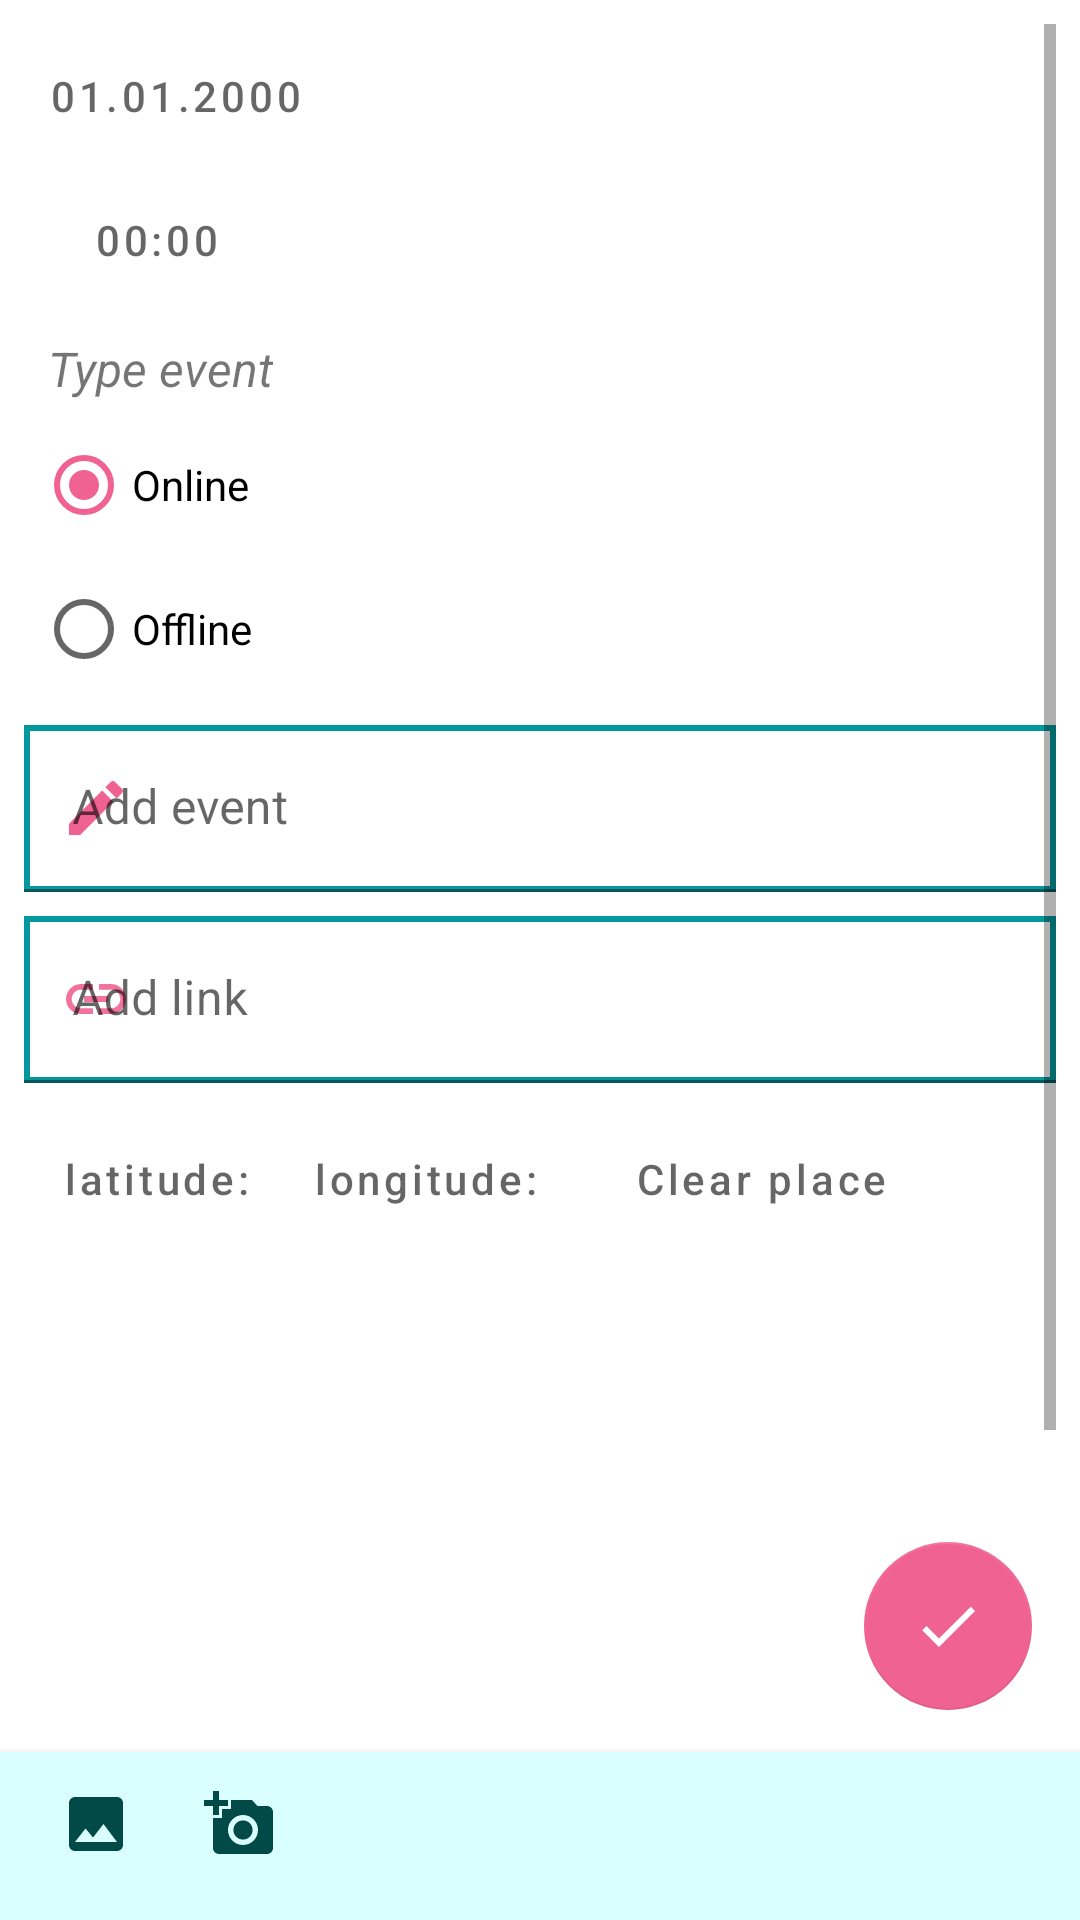

Icon click points for this 1080×1920 phone screenshot, format [x,y]:
check: [948,1626]
Gallery: [96,1824]
photo: [238,1822]
